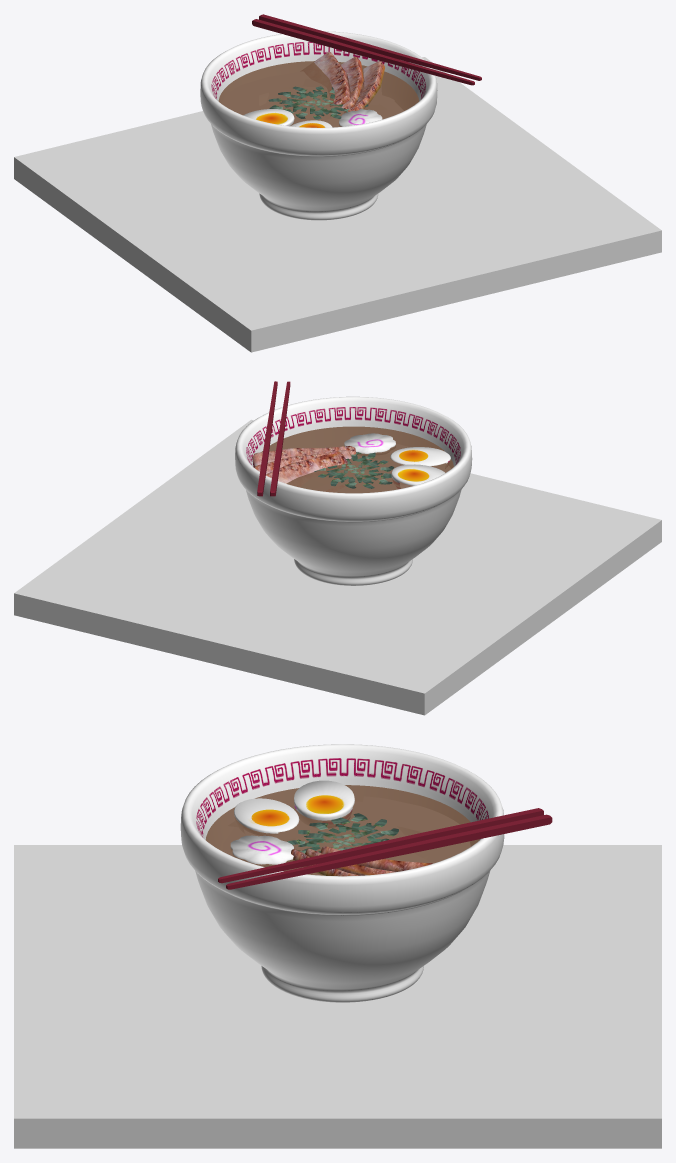
Rendered from ramen.dae.
3 views of the same model, one above another, from view 1: azimuth 30°, elevation 25°; view 2: azimuth 150°, elevation 25°; view 3: azimuth 270°, elevation 25° (orthographic). The views are drawn at different scales.
Visible parts, largest first — view 1: table, bowl, soup, stick_1, stick_2, onions, Meat, Meat_002, Meat_001, egg, naruto; view 2: table, bowl, soup, onions, Meat, egg_001, egg, naruto, Meat_002, stick_1, stick_2; view 3: table, bowl, soup, stick_2, stick_1, egg, onions, egg_001, naruto, Meat.
Boxes of the visible parts, box(x1,y1,x2,y2) form: table: box(14, 57, 661, 352); bowl: box(200, 31, 437, 220); soup: box(218, 61, 419, 127); stick_1: box(252, 19, 474, 85); stick_2: box(259, 14, 481, 80); onions: box(268, 86, 368, 119); Meat: box(299, 52, 350, 106); Meat_002: box(348, 61, 384, 111); Meat_001: box(341, 57, 364, 108); egg: box(243, 109, 294, 126); naruto: box(339, 109, 382, 126); table: box(14, 419, 661, 715); bowl: box(235, 396, 472, 585); soup: box(253, 426, 453, 493); onions: box(314, 452, 394, 488); Meat: box(266, 451, 347, 491); egg_001: box(390, 447, 450, 466); egg: box(391, 464, 444, 485); naruto: box(344, 433, 395, 455); Meat_002: box(252, 446, 356, 467); stick_1: box(270, 381, 290, 496); stick_2: box(257, 381, 277, 496); table: box(14, 845, 661, 1148); bowl: box(180, 744, 504, 1002); soup: box(205, 785, 479, 875); stick_2: box(226, 814, 552, 889); stick_1: box(218, 808, 543, 883); egg: box(294, 780, 354, 827); onions: box(287, 813, 398, 853); egg_001: box(234, 798, 299, 835); naruto: box(230, 835, 293, 865); Meat: box(320, 846, 433, 871).
Bounding box in the file's own units: 3.98 × 3.98 × 1.33.
9 materials, 7 textured.
